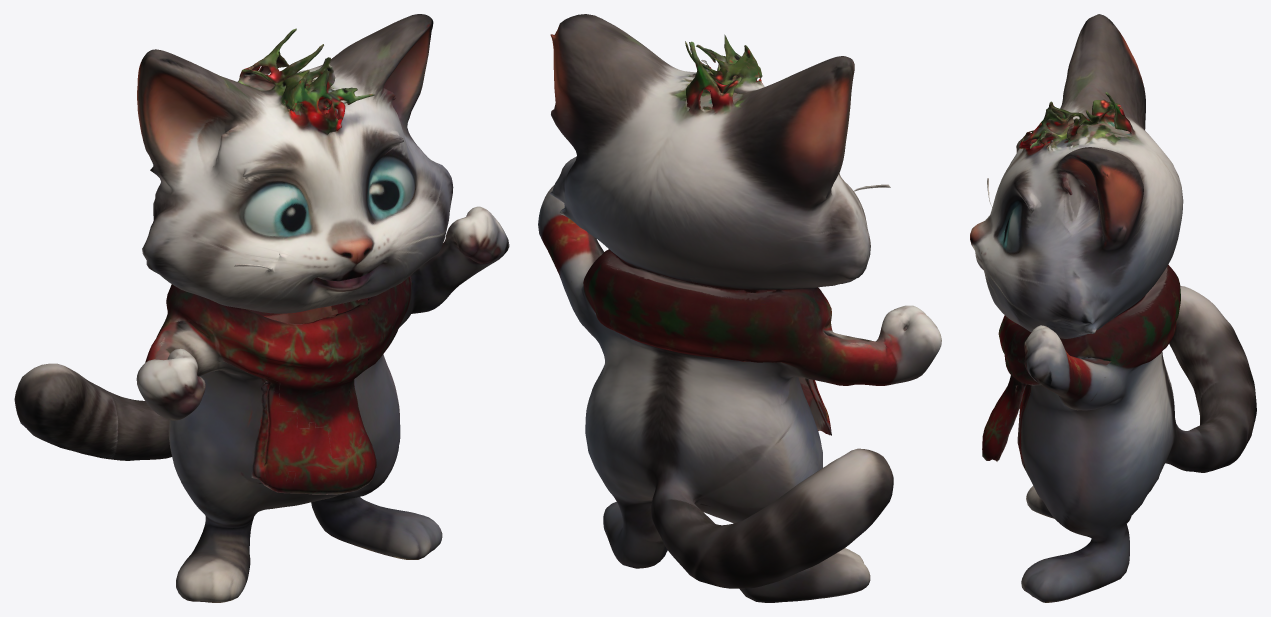
The model's file is cat.glb.
The picture shows the model from 3 angles, left to right: view 1: azimuth 30°, elevation 25°; view 2: azimuth 150°, elevation 25°; view 3: azimuth 270°, elevation 25°; orthographic projection. The views are drawn at different scales.
Bounding box in the file's own units: 1.6 × 1.99 × 1.08.
1 material, 1 textured.
